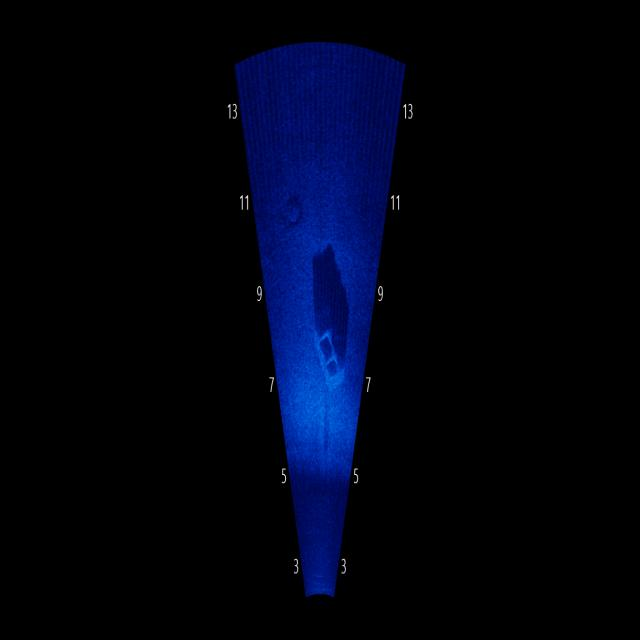square: (310, 317, 349, 393)
